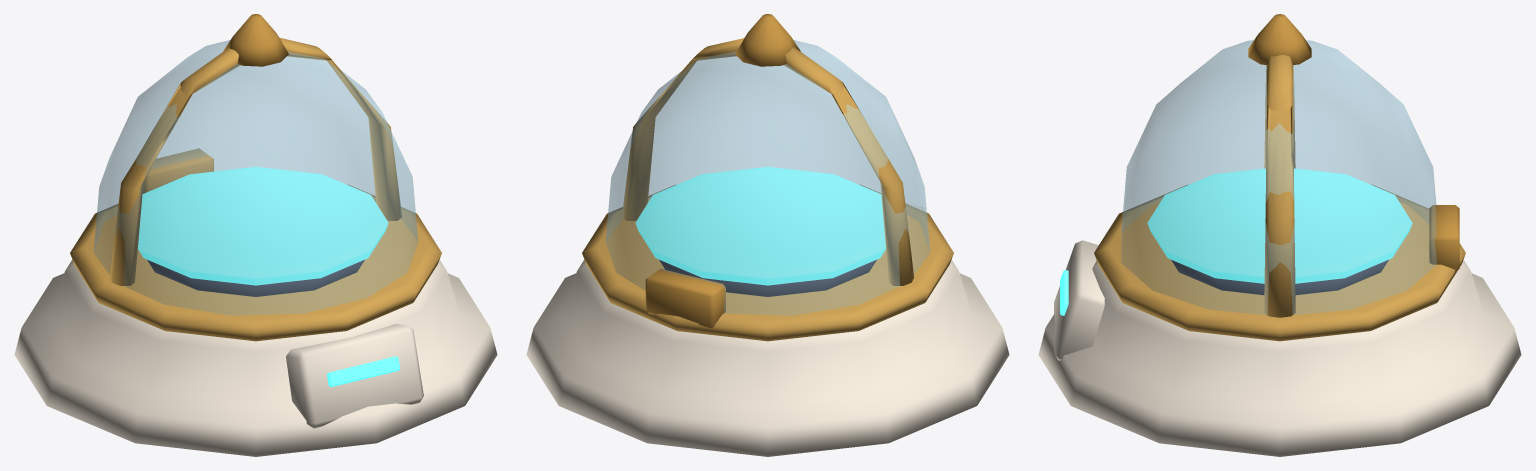
Rendered from Incubator_Prototype.fbx.
3 views of the same model, side by side, from view 1: azimuth 30°, elevation 25°; view 2: azimuth 150°, elevation 25°; view 3: azimuth 270°, elevation 25° (orthographic).
Parts seen in each view (by area): view 1: Canopy, Base, Trim, StatusRing, Hinge, Cradle; view 2: Canopy, Base, Trim, StatusRing, Hinge, Cradle; view 3: Canopy, Base, Trim, StatusRing, Hinge, Cradle.
Part boxes in pixels (bbox=[...]): Canopy: bbox=[93, 40, 418, 315]; Base: bbox=[14, 260, 497, 456]; Trim: bbox=[70, 37, 441, 341]; StatusRing: bbox=[138, 167, 400, 386]; Hinge: bbox=[143, 14, 288, 193]; Cradle: bbox=[147, 260, 364, 296]; Canopy: bbox=[605, 40, 930, 315]; Base: bbox=[526, 203, 1009, 456]; Trim: bbox=[582, 38, 953, 341]; StatusRing: bbox=[635, 167, 885, 285]; Hinge: bbox=[645, 14, 800, 328]; Cradle: bbox=[659, 260, 876, 296]; Canopy: bbox=[1121, 40, 1436, 314]; Base: bbox=[1038, 240, 1521, 456]; Trim: bbox=[1094, 55, 1465, 341]; StatusRing: bbox=[1060, 168, 1412, 315]; Hinge: bbox=[1248, 14, 1459, 271]; Cradle: bbox=[1171, 260, 1388, 294].
Bounding box in the file's own units: 6.7 × 5.18 × 6.7.
